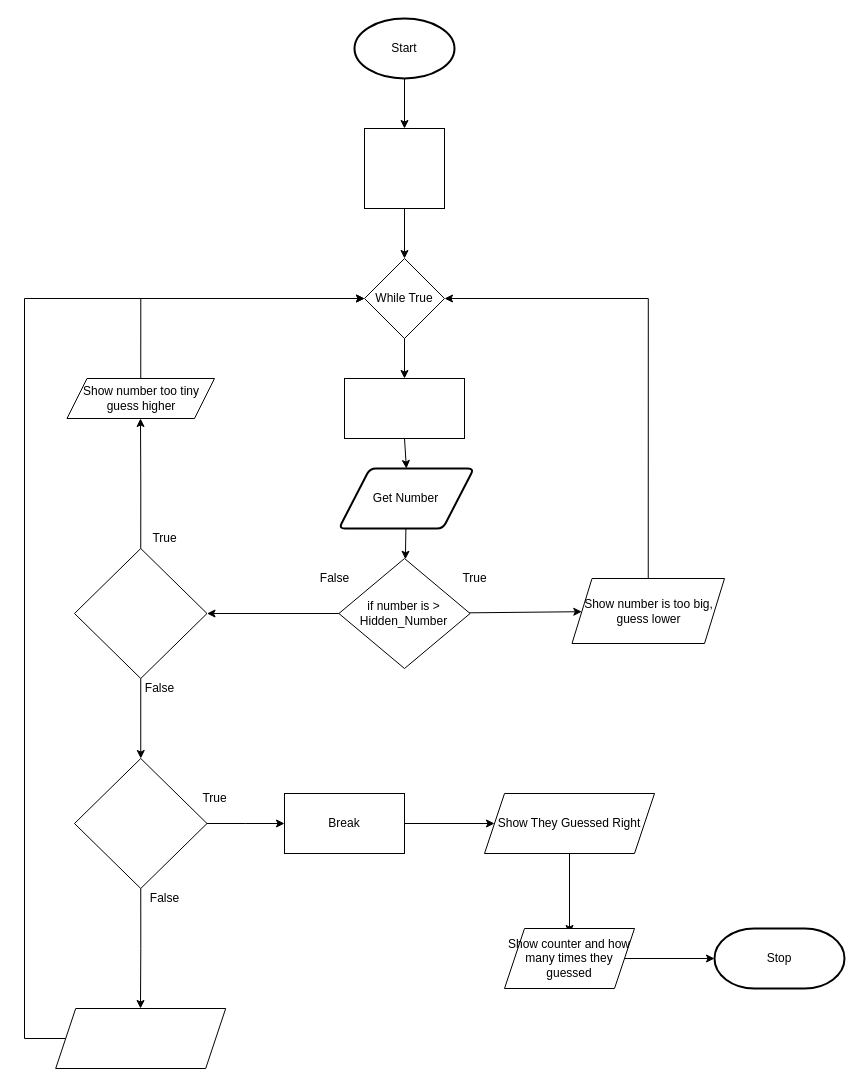
This 863x1086 diagram has some shape labels left out. Here are the shapes that lost their labels. From the top down, the centre of each, then its label:
the point at 404,168: Generate Random Number
the point at 404,408: counter = counter + 1
the point at 140,613: if number is < Hidden_Number
the point at 140,823: if number = Hidden_Number
the point at 140,1038: Show they didn't guess a number, guess again
